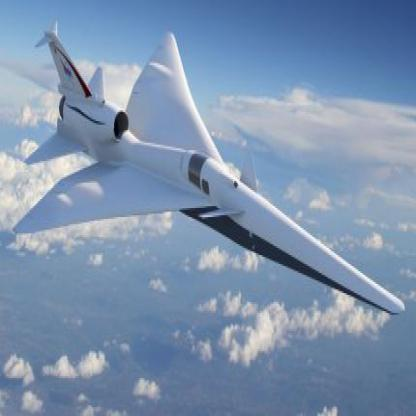CIV_Plane: (13, 20, 406, 321)
